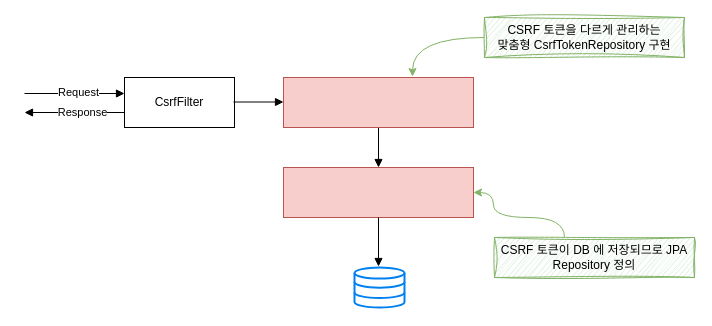
This 712x326 diagram has some shape labels left out. Here are the shapes that lost their labels. From the top down, the centre of each, then its label:
At (378,102): "CustomCsrfTokenRepository".
At (378,192): "JpaTokenRepository".
